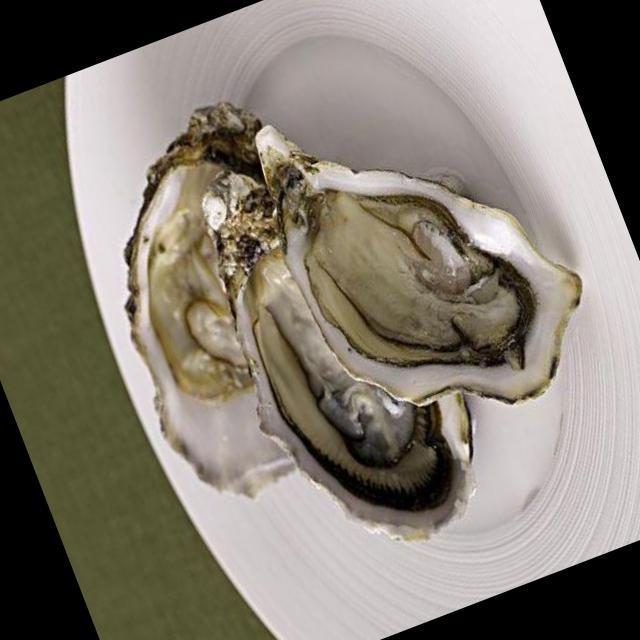Oyster-Open: (236, 36, 619, 471), (168, 125, 512, 587), (50, 82, 390, 522)
